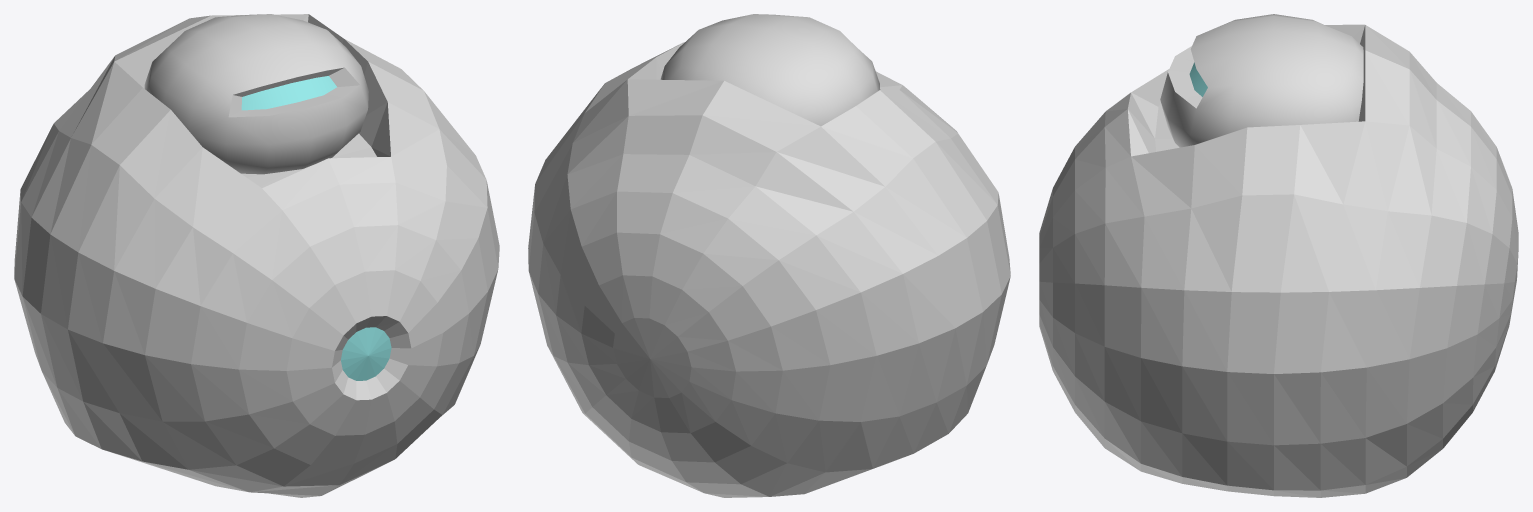
File: BODY.fbx
The picture shows the model from 3 angles, left to right: view 1: azimuth 30°, elevation 25°; view 2: azimuth 150°, elevation 25°; view 3: azimuth 270°, elevation 25°; orthographic projection. The views are drawn at different scales.
Parts seen in each view (by area): view 1: pSphere1, pCube1; view 2: pSphere1, pCube1; view 3: pSphere1, pCube1.
Boxes of the visible parts, box(x1,y1,x2,y2) form: pSphere1: box(14, 14, 499, 497); pCube1: box(144, 14, 368, 174); pSphere1: box(528, 42, 1010, 497); pCube1: box(660, 14, 880, 126); pSphere1: box(1039, 24, 1518, 497); pCube1: box(1160, 14, 1363, 147).
Size of the model in its own units: 2.16 by 2.16 by 2.04.
